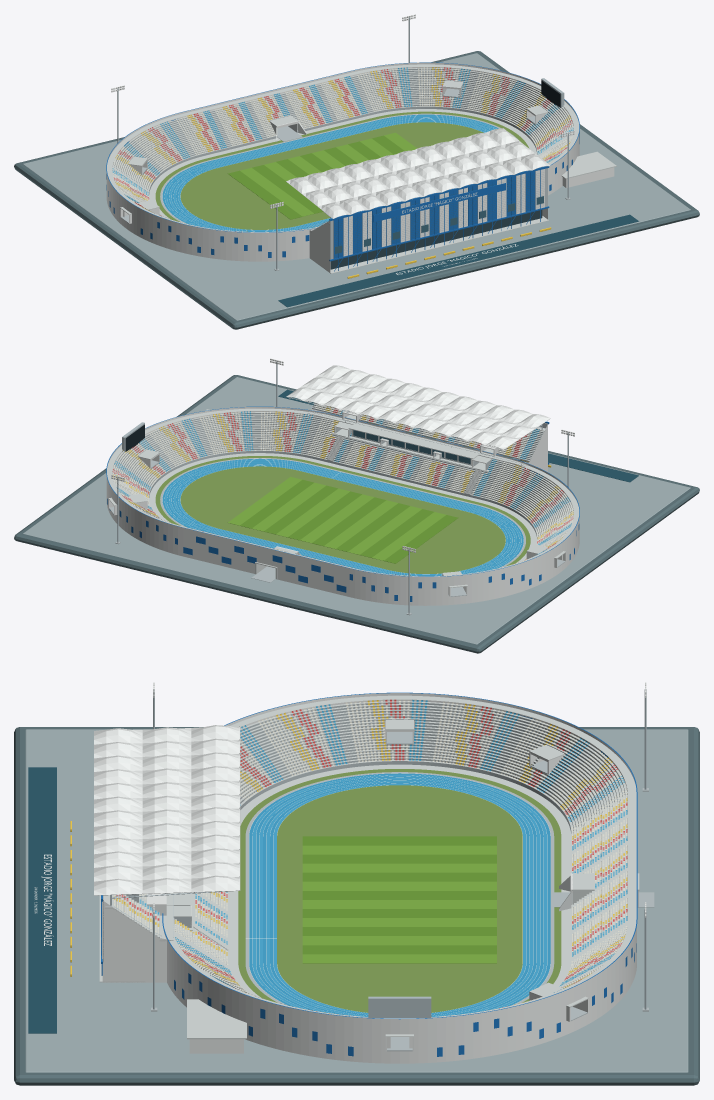
The model's file is magico-concert.glb.
3 renders of one model, top to bottom at view 1: azimuth 30°, elevation 25°; view 2: azimuth 150°, elevation 25°; view 3: azimuth 270°, elevation 25°, orthographic. The views are drawn at different scales.
Parts seen in each view (by area): view 1: Blanco calido · cubierta, Pavimento exterior, Hormigon de borde, Hormigon claro, Cesped perimetral, Base de maqueta, Azul institucional, Asiento · marfil, Membrete · azul profundo, Pista · azul alternado, Pista · azul, Cesped · franja oscura (+7 smaller); view 2: Blanco calido · cubierta, Pavimento exterior, Hormigon de borde, Hormigon claro, Cesped perimetral, Base de maqueta, Asiento · marfil, Cesped · franja clara, Cesped · franja oscura, Pista · azul alternado, Pista · azul, Asiento · azul celeste (+7 smaller); view 3: Pavimento exterior, Blanco calido · cubierta, Hormigon de borde, Cesped perimetral, Base de maqueta, Hormigon claro, Cesped · franja clara, Cesped · franja oscura, Asiento · marfil, Pista · azul, Pista · azul alternado, Membrete · azul profundo (+6 smaller).
Part boxes in pixels (x1,y1,x2,y2): Blanco calido · cubierta: (106, 14, 614, 274); Pavimento exterior: (23, 53, 690, 320); Hormigon de borde: (107, 64, 616, 273); Hormigon claro: (114, 68, 571, 270); Cesped perimetral: (155, 111, 529, 229); Base de maqueta: (14, 51, 699, 329); Azul institucional: (106, 62, 579, 271); Asiento · marfil: (113, 67, 573, 230); Membrete · azul profundo: (278, 214, 638, 307); Pista · azul alternado: (164, 115, 496, 231); Pista · azul: (162, 114, 498, 231); Cesped · franja oscura: (228, 135, 404, 219); Blanco calido · cubierta: (106, 358, 579, 605); Pavimento exterior: (23, 377, 690, 644); Hormigon de borde: (107, 404, 579, 587); Hormigon claro: (109, 403, 571, 615); Cesped perimetral: (155, 456, 530, 573); Base de maqueta: (14, 375, 699, 653); Asiento · marfil: (112, 403, 573, 576); Cesped · franja clara: (228, 476, 446, 560); Cesped · franja oscura: (240, 479, 458, 563); Pista · azul alternado: (164, 459, 521, 576); Pista · azul: (162, 458, 523, 575); Asiento · azul celeste: (114, 410, 571, 575); Pavimento exterior: (25, 729, 688, 1072); Blanco calido · cubierta: (34, 682, 646, 1063); Hormigon de borde: (99, 695, 639, 1039); Cesped perimetral: (238, 769, 561, 1012); Base de maqueta: (14, 727, 699, 1085); Hormigon claro: (103, 702, 654, 1051); Cesped · franja clara: (302, 845, 496, 963); Cesped · franja oscura: (302, 836, 496, 954); Asiento · marfil: (114, 699, 627, 1016); Pista · azul: (249, 773, 550, 1015); Pista · azul alternado: (252, 775, 546, 1016); Membrete · azul profundo: (28, 767, 56, 1033).
Bounding box in the file's own units: 292 × 44.02 × 240.
